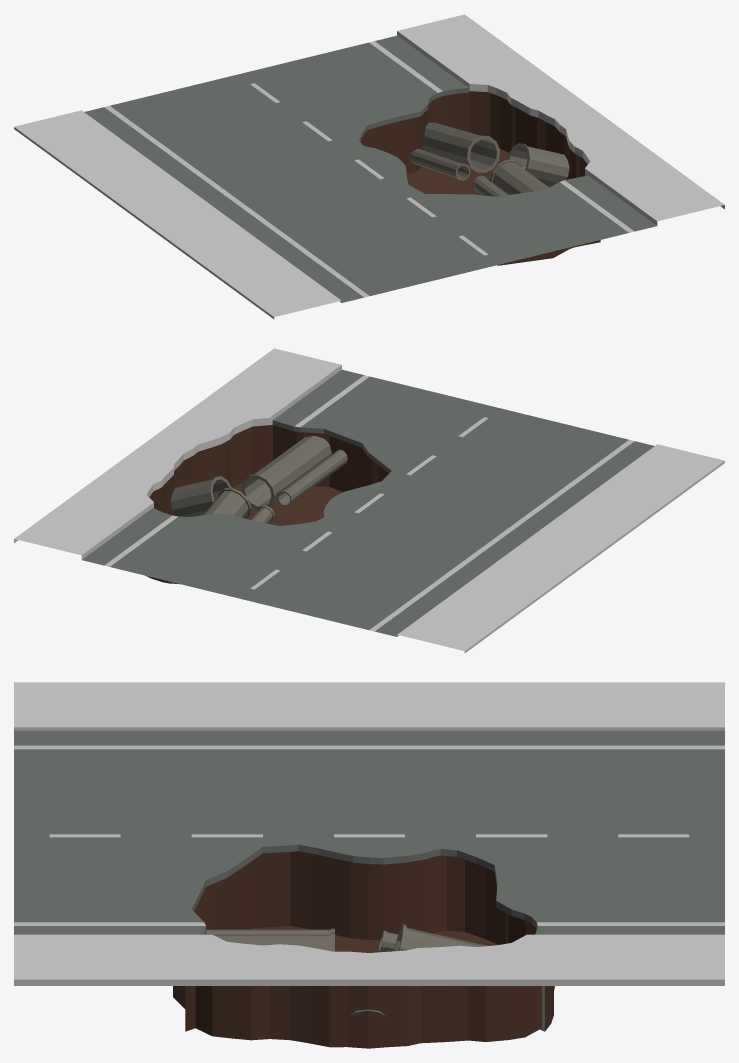
File: Straight_Cracked.fbx
3 renders of one model, top to bottom at view 1: azimuth 30°, elevation 25°; view 2: azimuth 150°, elevation 25°; view 3: azimuth 270°, elevation 25°, orthographic. The views are drawn at different scales.
Parts seen in each view (by area): view 1: Straight_Cracked; view 2: Straight_Cracked; view 3: Straight_Cracked.
Boxes of the visible parts, x1,y1,x2,y2 form: Straight_Cracked: (14, 14, 724, 319); Straight_Cracked: (14, 348, 724, 653); Straight_Cracked: (14, 682, 724, 1048).
Size of the model in its own units: 15 by 2.18 by 15.
